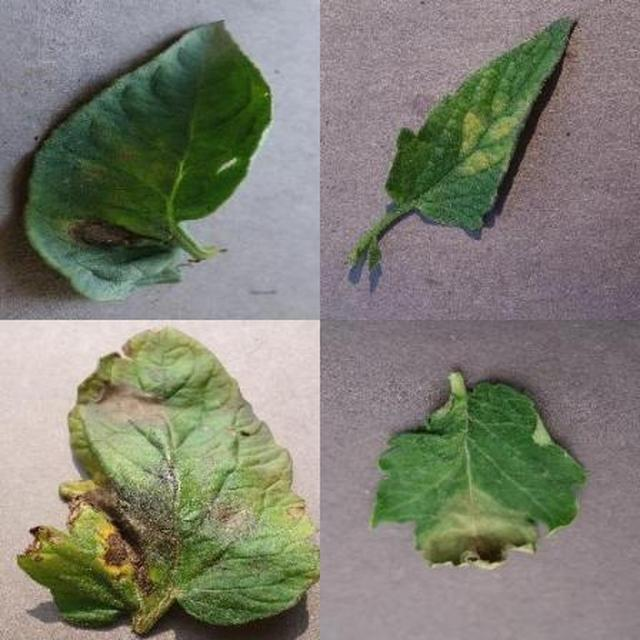Early Blight Leaf: (209, 176, 640, 640)
